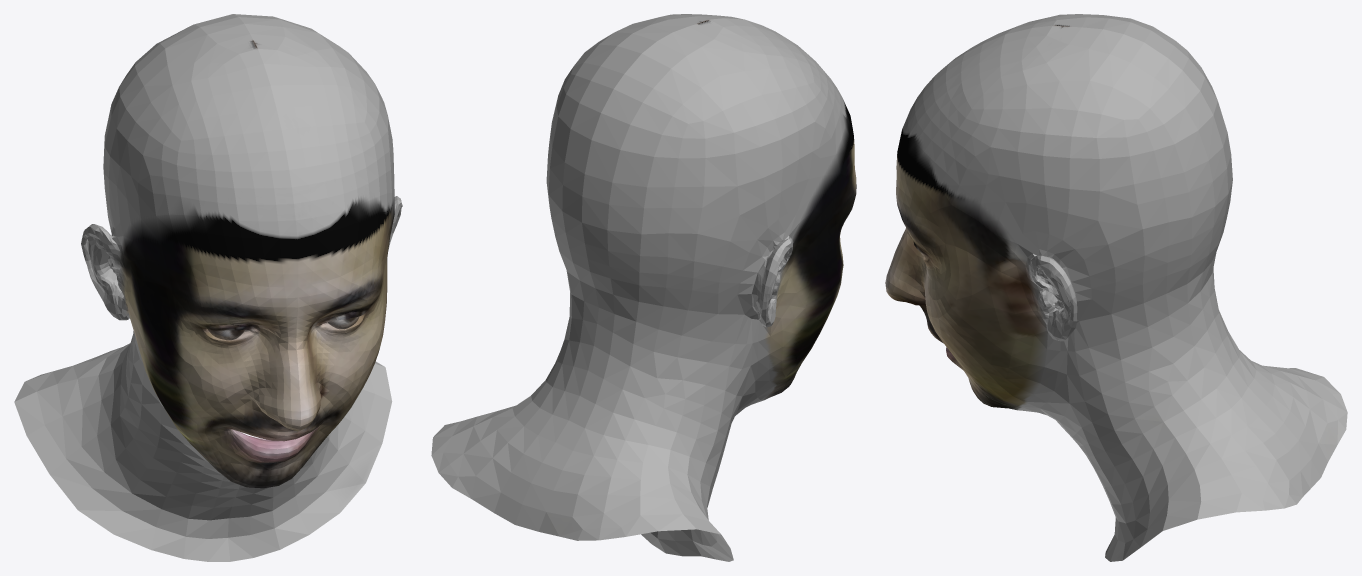
File: ezgif-frame-077.obj
The picture shows the model from 3 angles, left to right: view 1: azimuth 30°, elevation 25°; view 2: azimuth 150°, elevation 25°; view 3: azimuth 270°, elevation 25°; orthographic projection. The views are drawn at different scales.
Bounding box in the file's own units: 0.2082 × 0.3289 × 0.2683.
1 material, 1 textured.
